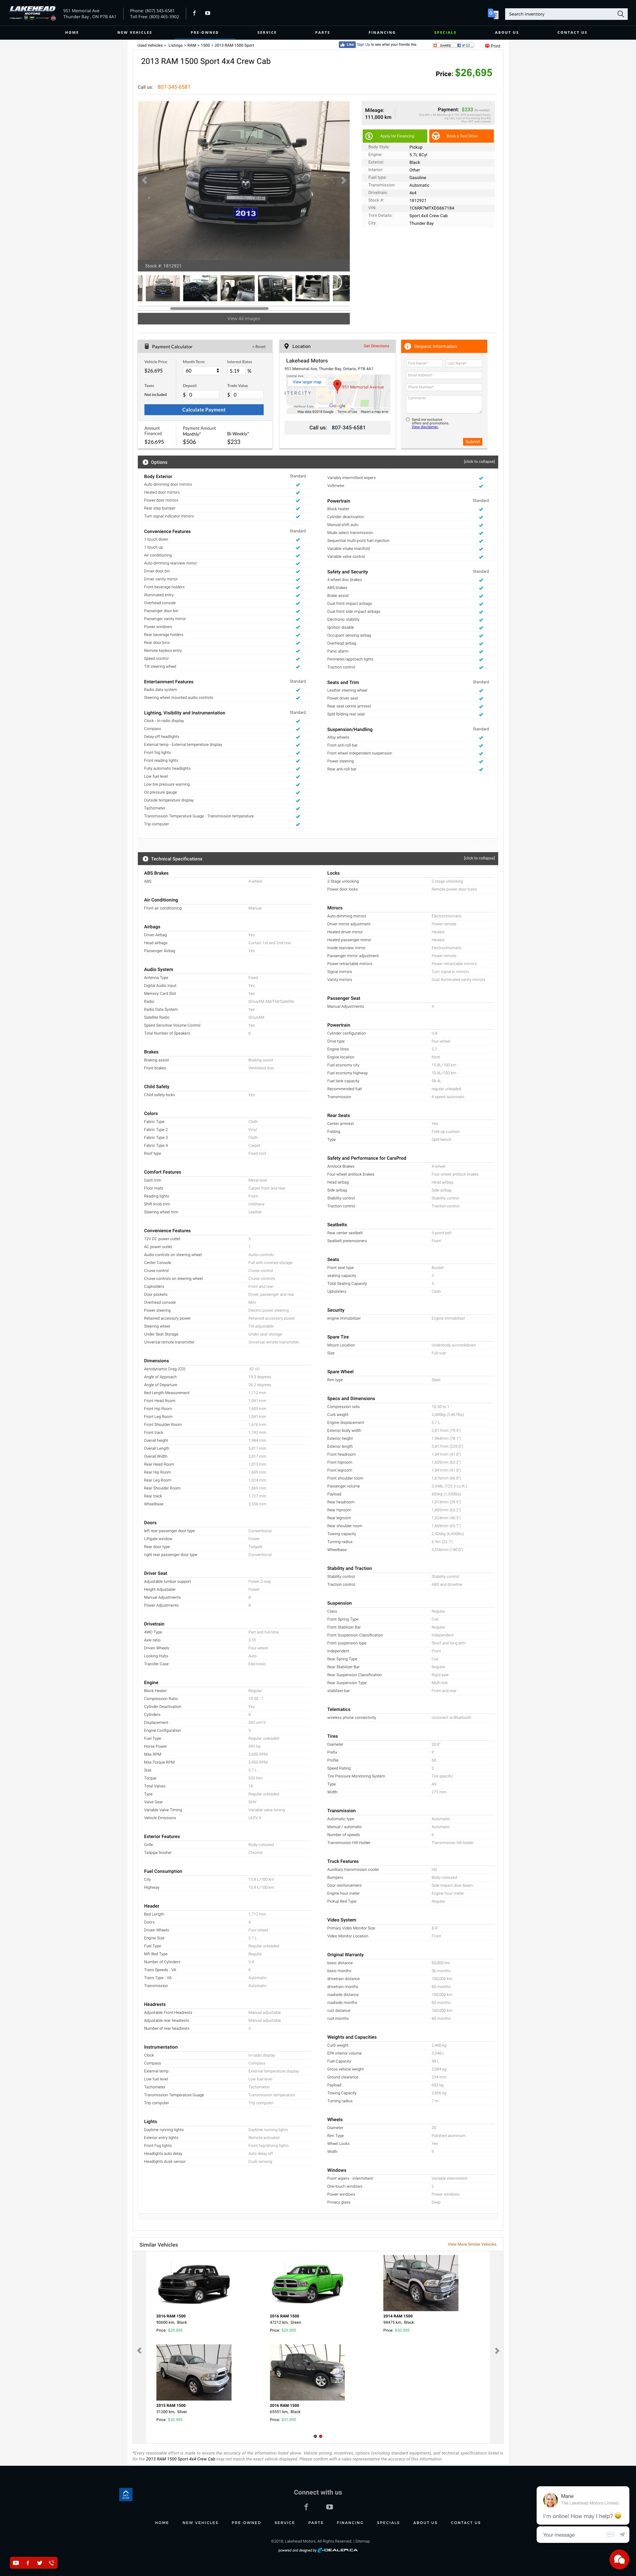car: (340, 176, 347, 186)
